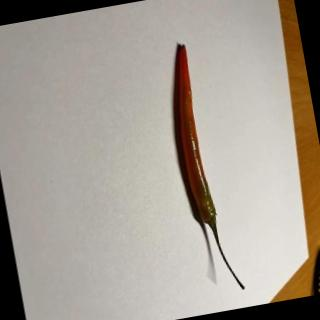Cabai Merah: (164, 41, 246, 297)
